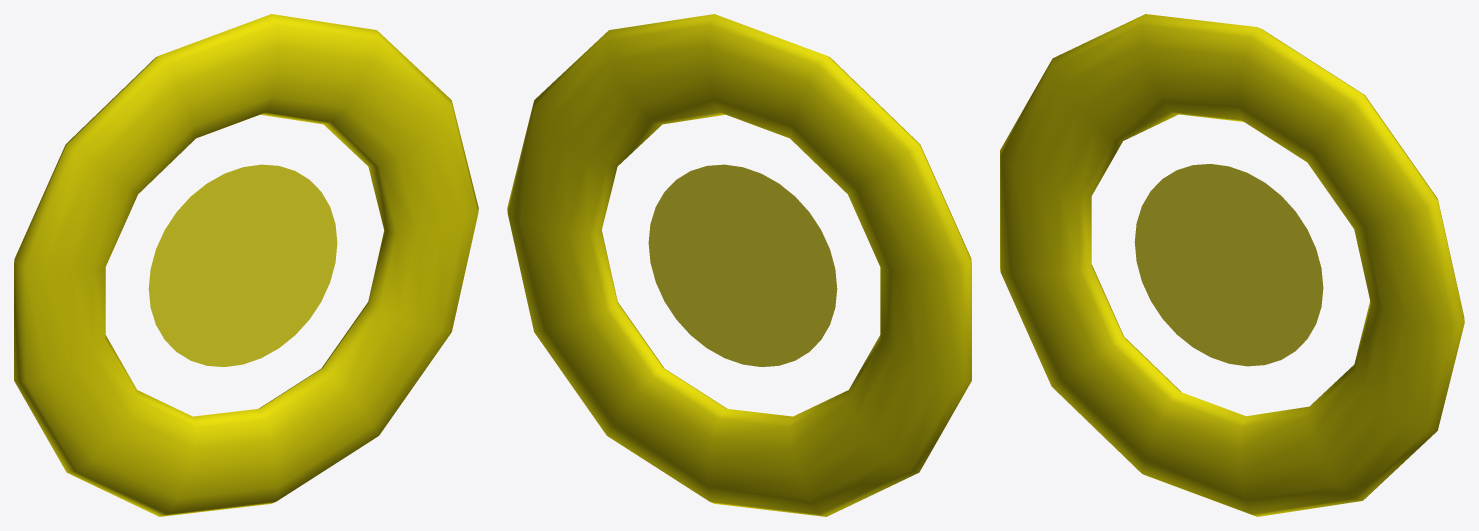
File: immunity.glb
The picture shows the model from 3 angles, left to right: view 1: azimuth 30°, elevation 25°; view 2: azimuth 150°, elevation 25°; view 3: azimuth 330°, elevation 25°; orthographic projection.
Visible parts, largest first — view 1: Torus, Circle; view 2: Torus, Circle; view 3: Torus, Circle.
Boxes of the visible parts, <box> form: Torus: <box>14,14,478,516</box>; Circle: <box>148,164,337,366</box>; Torus: <box>507,14,971,516</box>; Circle: <box>648,164,837,366</box>; Torus: <box>1000,14,1464,516</box>; Circle: <box>1134,164,1323,366</box>.
Bounding box in the file's own units: 2.46 × 2.48 × 0.2082.
